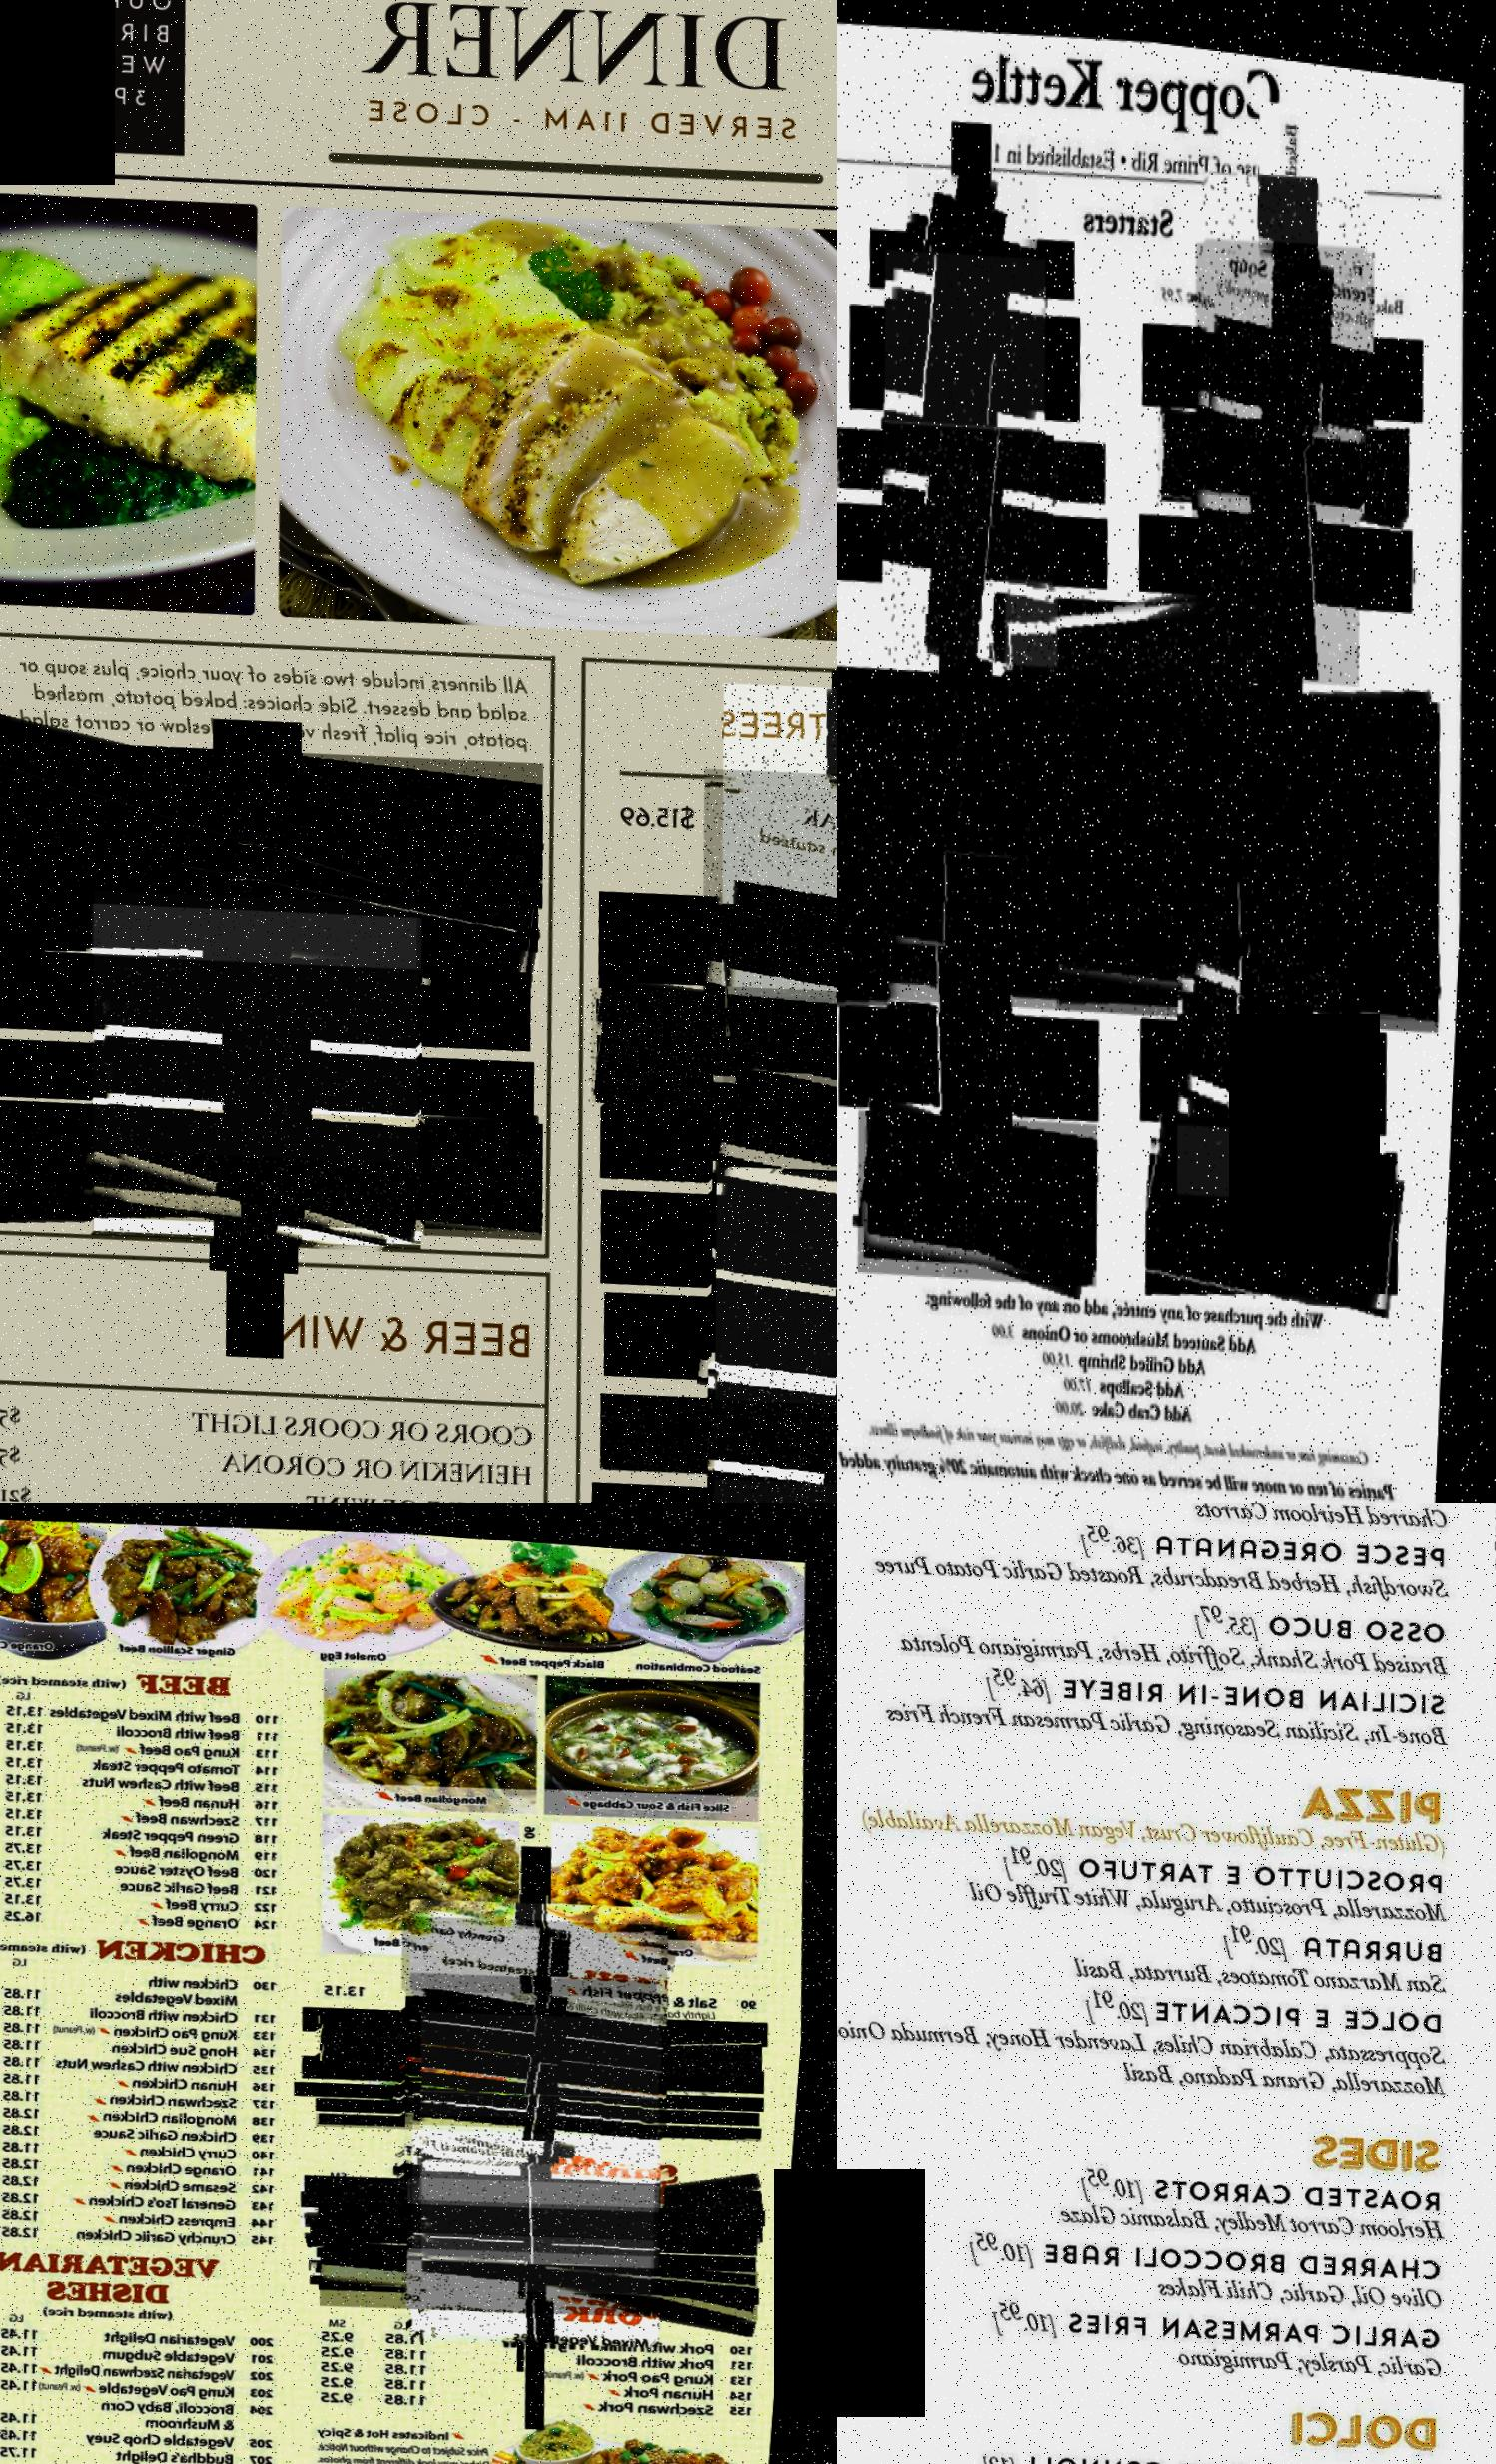Menu-Items: (838, 621, 1456, 1060), (92, 884, 454, 1257), (93, 804, 447, 1169), (0, 708, 561, 926), (838, 1941, 1475, 2128), (0, 1065, 563, 1255), (0, 810, 558, 993), (861, 1561, 1470, 1704), (875, 1633, 1466, 1772), (861, 1503, 1468, 1635), (396, 1901, 688, 2135), (949, 1811, 1468, 1940), (961, 2196, 1475, 2323), (396, 1975, 679, 2202), (407, 2123, 683, 2344), (405, 1881, 678, 2103), (407, 2075, 678, 2295), (407, 1959, 676, 2175), (1149, 1098, 1415, 1311), (414, 1998, 679, 2211), (1184, 218, 1383, 502), (699, 732, 838, 1119), (1007, 2274, 1475, 2388), (857, 1091, 1111, 1295), (421, 2147, 674, 2350), (1177, 931, 1368, 1200), (708, 1033, 838, 1420), (876, 414, 1065, 679), (885, 929, 1070, 1193), (1060, 1888, 1471, 2006), (1188, 422, 1371, 685), (308, 2152, 776, 2253), (597, 943, 838, 1133), (1067, 2137, 1473, 2248), (1197, 150, 1375, 403), (716, 1133, 838, 1503), (878, 238, 1056, 488), (720, 648, 838, 1003), (720, 952, 838, 1308), (329, 2233, 773, 2327), (1001, 560, 1267, 715), (320, 1999, 771, 2084), (1153, 387, 1415, 526), (320, 2223, 769, 2304), (618, 1348, 838, 1498), (327, 2181, 773, 2253), (838, 407, 1109, 516), (903, 162, 1044, 363), (320, 2089, 771, 2149), (326, 2365, 769, 2425), (327, 2307, 771, 2365), (329, 2323, 771, 2380), (329, 2353, 771, 2409), (928, 1503, 1468, 1549), (331, 2336, 766, 2392), (993, 1290, 1274, 1362), (0, 2378, 294, 2443), (0, 1954, 294, 2019), (0, 2209, 290, 2263), (0, 2019, 297, 2072), (0, 2172, 294, 2225), (0, 1839, 294, 1892), (0, 2086, 292, 2138), (0, 2343, 294, 2394), (0, 1686, 292, 1737), (0, 2070, 290, 2121), (0, 1890, 287, 1941), (0, 1704, 294, 1753), (0, 1756, 292, 1806), (0, 2140, 290, 2189), (0, 1987, 296, 2035), (0, 2309, 294, 2357), (0, 2107, 294, 2154), (0, 1822, 294, 1869), (0, 2327, 292, 2374), (0, 2123, 292, 2170), (0, 2056, 292, 2103), (0, 2040, 292, 2087), (0, 1857, 292, 1904), (0, 1806, 292, 1853), (0, 1790, 290, 1837), (0, 2191, 289, 2239), (0, 1723, 289, 1771), (0, 2158, 287, 2205), (0, 2413, 297, 2459), (0, 2362, 294, 2408), (0, 1774, 290, 1820), (0, 1874, 287, 1920), (0, 1741, 289, 1785), (0, 2008, 287, 2052), (0, 2425, 299, 2464), (1056, 1373, 1221, 1429), (1049, 1331, 1223, 1375), (1065, 1355, 1204, 1401)
